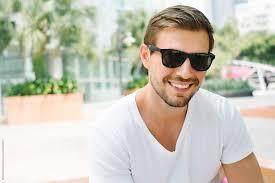sunglasses: (160, 47, 218, 76)
